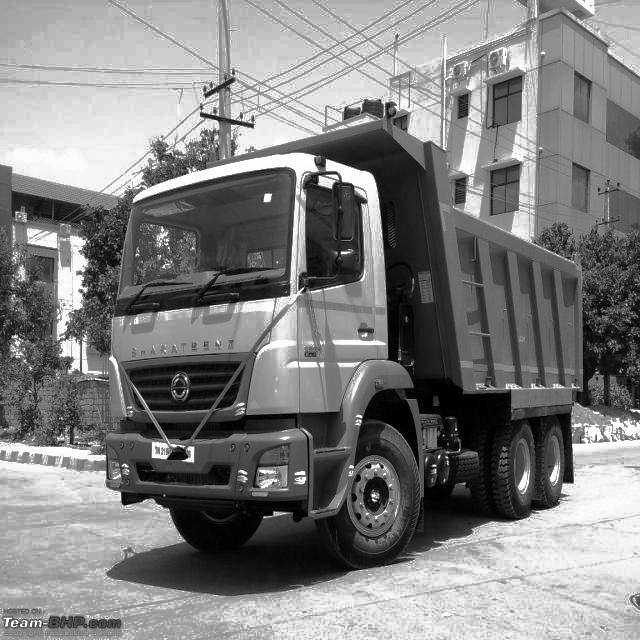HCV: (75, 88, 613, 596)
